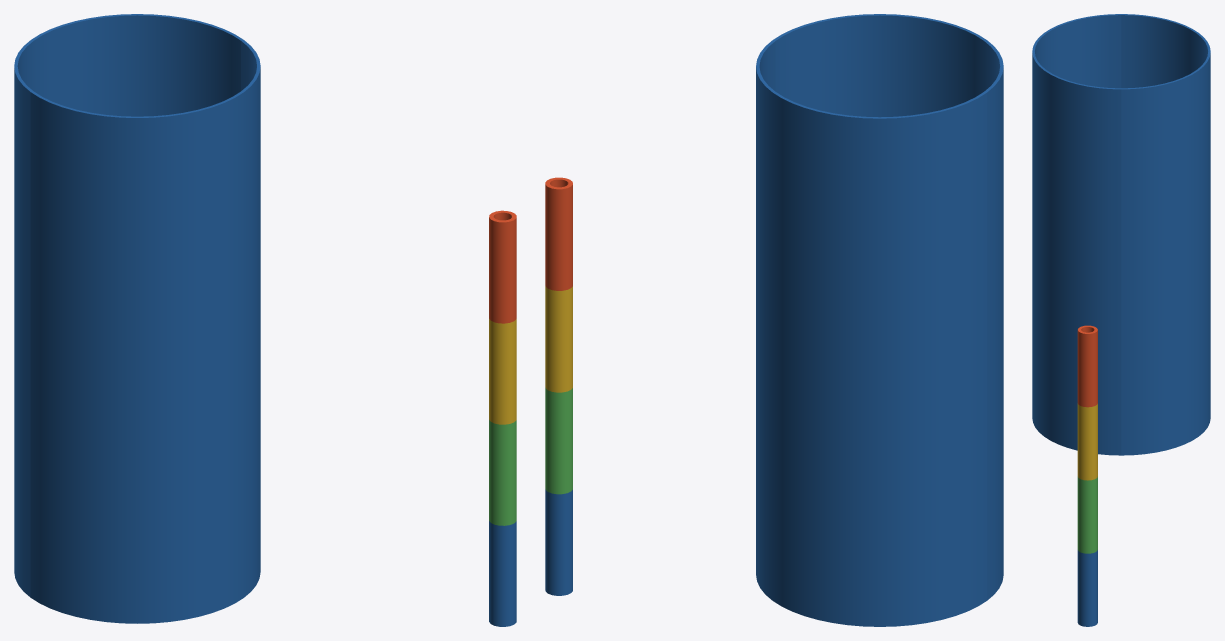
The model's file is nitrogen_storage_vessel_temperature.glb.
3 views of the same model, side by side, from view 1: azimuth 30°, elevation 25°; view 2: azimuth 150°, elevation 25°; view 3: azimuth 270°, elevation 25° (orthographic). The views are drawn at different scales.
Parts seen in each view (by area): view 1: temperature__front, temperature__back; view 2: temperature__back, temperature__front; view 3: temperature__front, temperature__back.
Boxes of the visible parts, x1,y1,x2,y2 form: temperature__front: (30, 40, 516, 626); temperature__back: (14, 14, 243, 597); temperature__back: (756, 40, 986, 626); temperature__front: (545, 14, 1003, 600); temperature__front: (1032, 14, 1121, 626); temperature__back: (1121, 14, 1210, 455).
Bounding box in the file's own units: 2.29 × 2.95 × 1.06.
